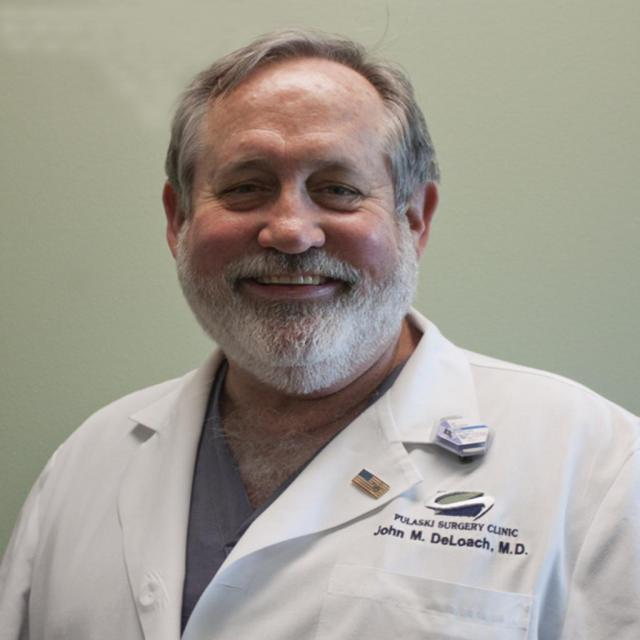nomask: (194, 69, 401, 392)
